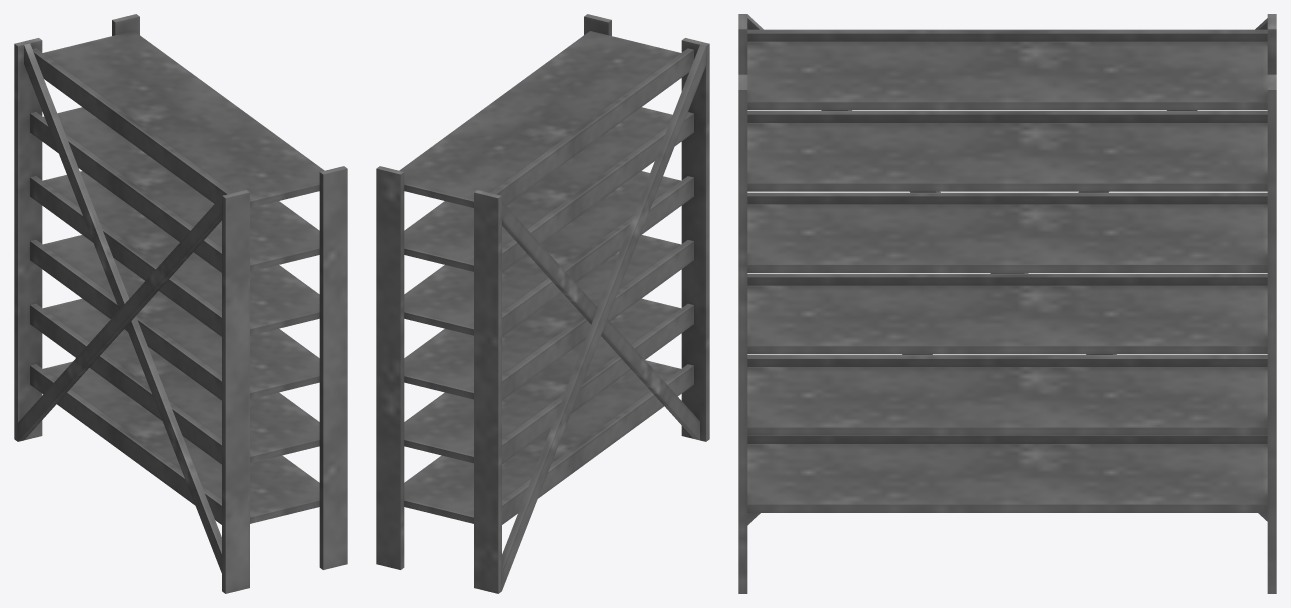
File: rack_3.obj
3 renders of one model, left to right at view 1: azimuth 30°, elevation 25°; view 2: azimuth 150°, elevation 25°; view 3: azimuth 270°, elevation 25°, orthographic. The views are drawn at different scales.
Visible parts, largest first — view 1: 3_rack; view 2: 3_rack; view 3: 3_rack.
Boxes of the visible parts, bbox=[...] form: 3_rack: bbox=[14, 14, 347, 593]; 3_rack: bbox=[376, 14, 709, 593]; 3_rack: bbox=[738, 14, 1276, 593].
Bounding box in the file's own units: 1 × 3.1 × 3.
